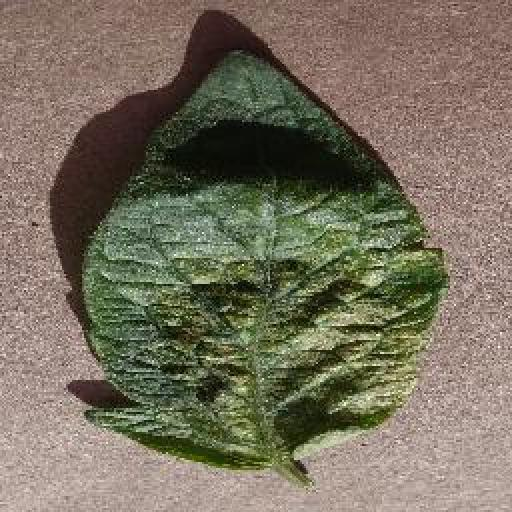Spider Mites: (81, 46, 448, 470)
